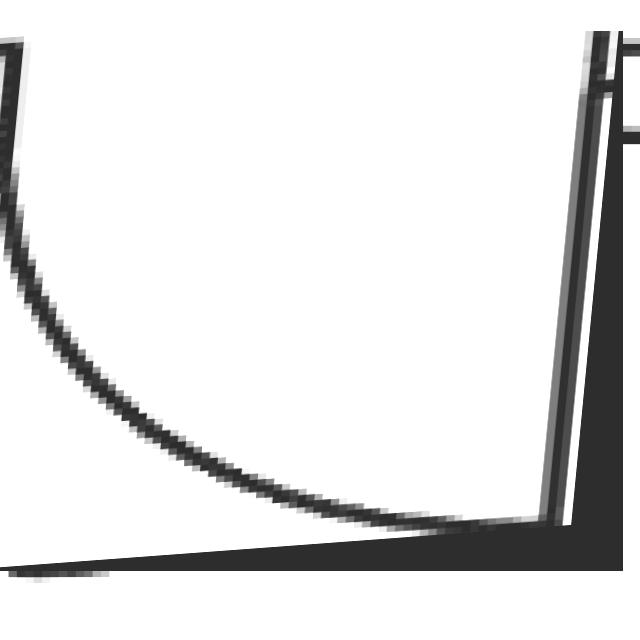door: (0, 31, 623, 571)
